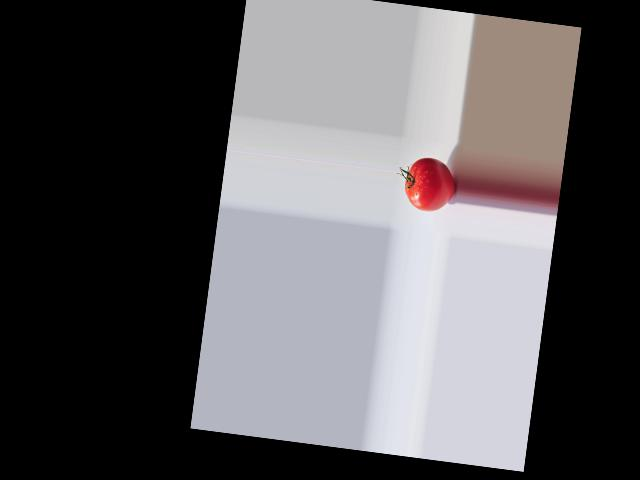tomato: (403, 155, 458, 214)
